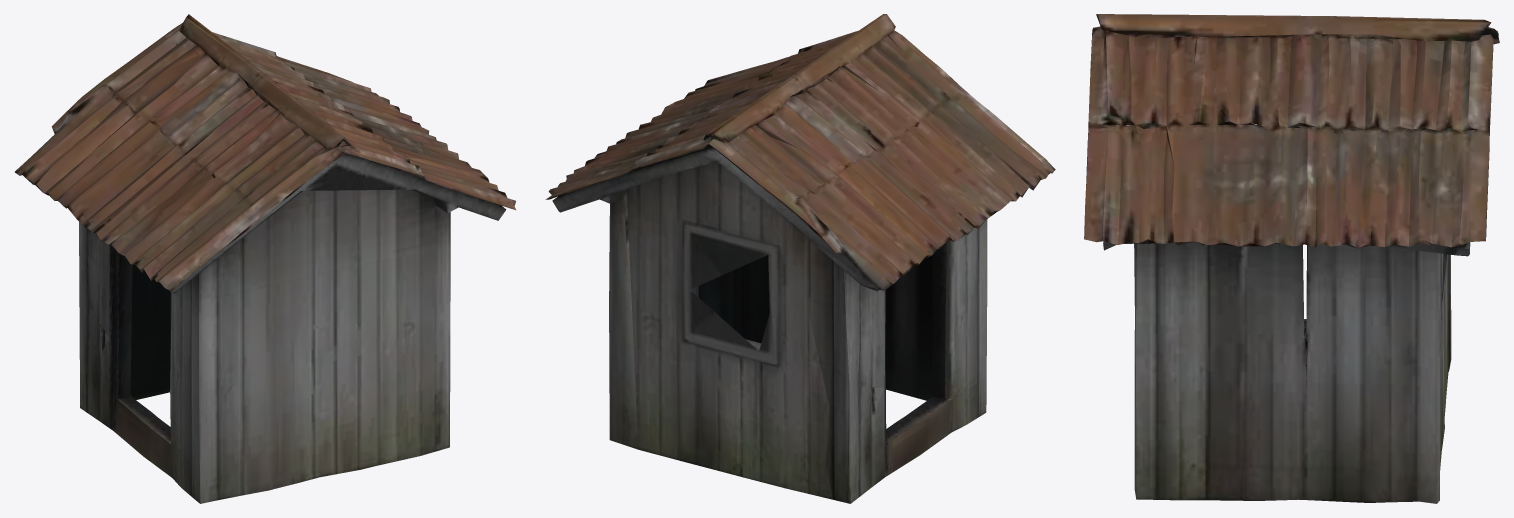
The model's file is shed.glb.
The picture shows the model from 3 angles, left to right: view 1: azimuth 30°, elevation 25°; view 2: azimuth 150°, elevation 25°; view 3: azimuth 270°, elevation 25°; orthographic projection. The views are drawn at different scales.
Parts seen in each view (by area): view 1: shed; view 2: shed; view 3: shed.
Boxes of the visible parts, x1,y1,x2,y2 form: shed: [15, 14, 515, 503]; shed: [545, 14, 1055, 503]; shed: [1084, 14, 1499, 503].
Size of the model in its own units: 3.59 by 3.4 by 3.06.
1 material, 1 textured.
